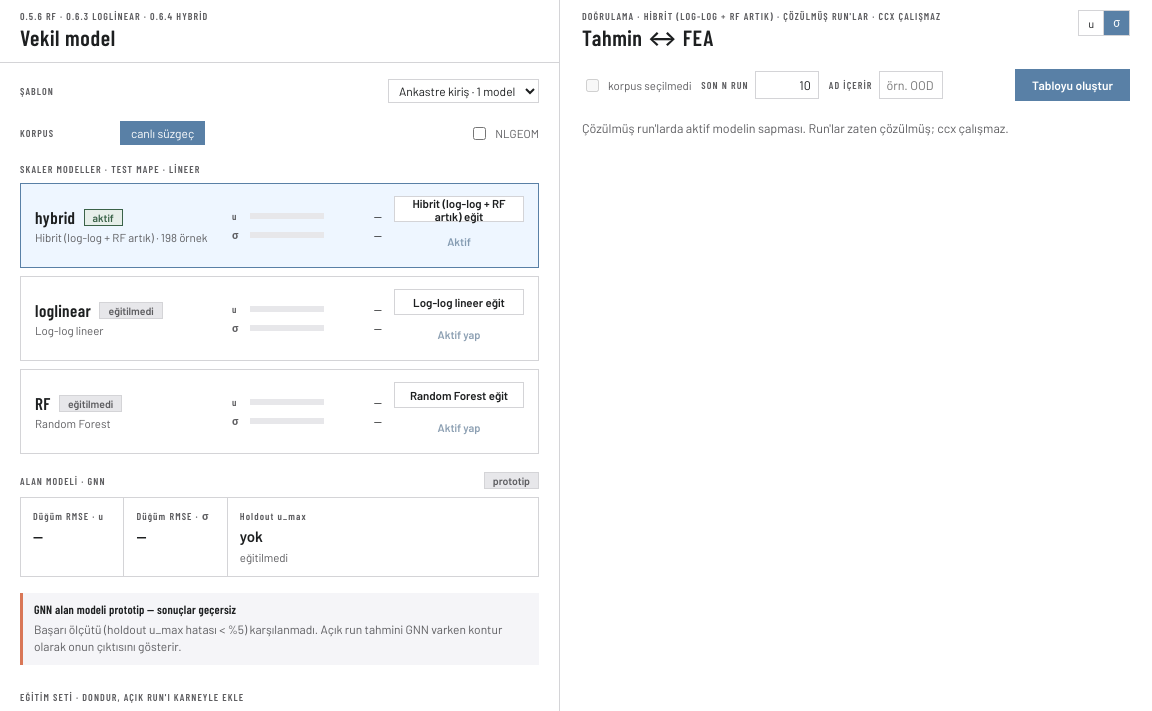
Test case: SurrogatePanel — şablona göre tahmin › şablon değişince form o şablonun alanlarını gösterir ve durum ona göre okunur
Select "Delikli plaka · 1 model" in the dropdown named "Şablon": {"x": 464, "y": 91} [388, 79, 539, 103]
(page scrolled)
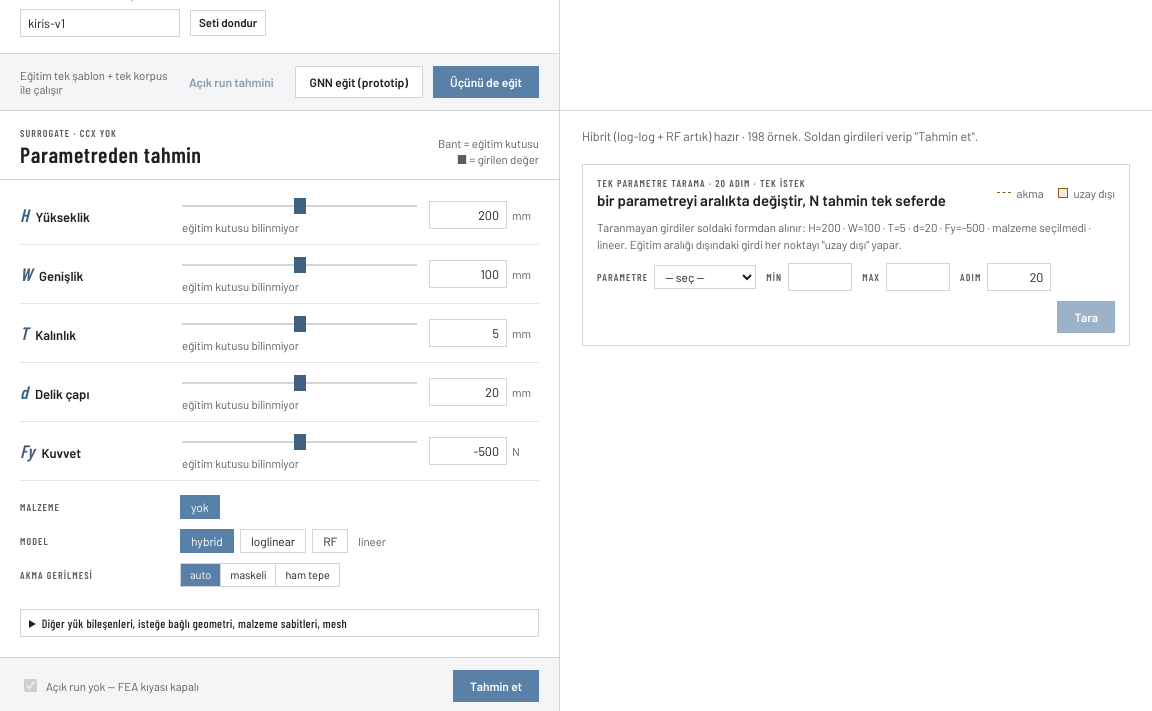
Expected: the field named "d · Delik çapı" is shown, [429, 378, 507, 406]
